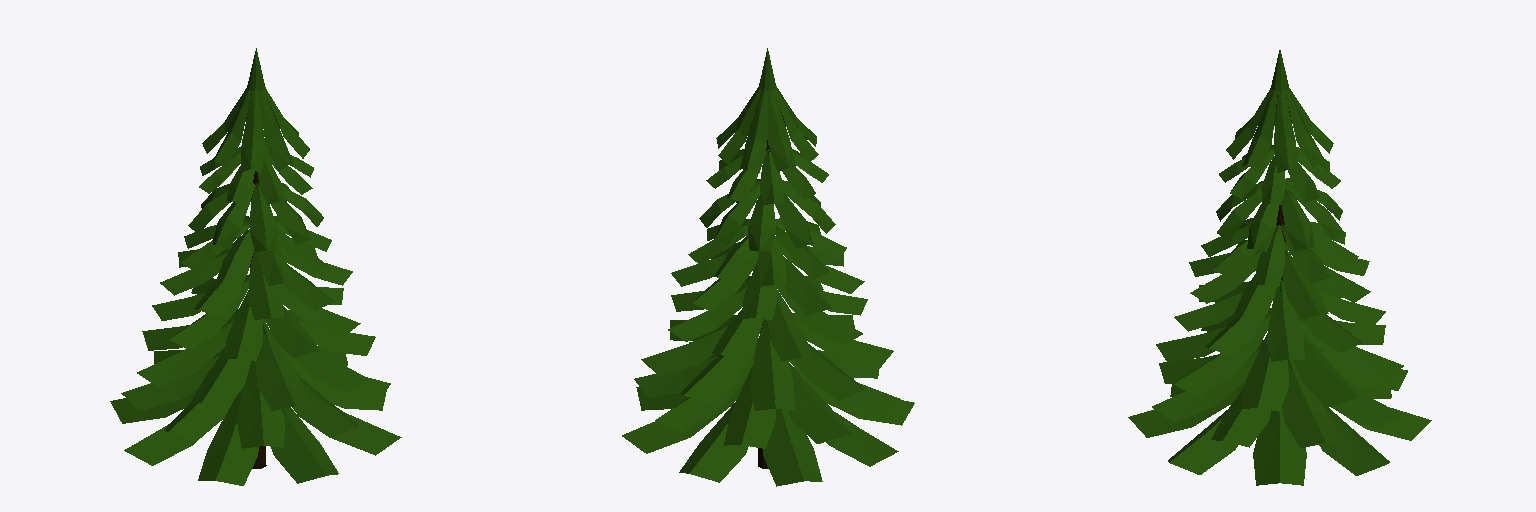
Rendered from TriFir.obj.
3 views of the same model, side by side, from view 1: azimuth 30°, elevation 25°; view 2: azimuth 150°, elevation 25°; view 3: azimuth 270°, elevation 25° (orthographic).
Parts seen in each view (by area): view 1: Fir-tree_Cylinder.002; view 2: Fir-tree_Cylinder.002; view 3: Fir-tree_Cylinder.002.
Boxes of the visible parts, <box> form: Fir-tree_Cylinder.002: <box>110,48,401,485</box>; Fir-tree_Cylinder.002: <box>622,48,914,486</box>; Fir-tree_Cylinder.002: <box>1128,50,1431,485</box>.
Bounding box in the file's own units: 3.77 × 5.71 × 3.77.